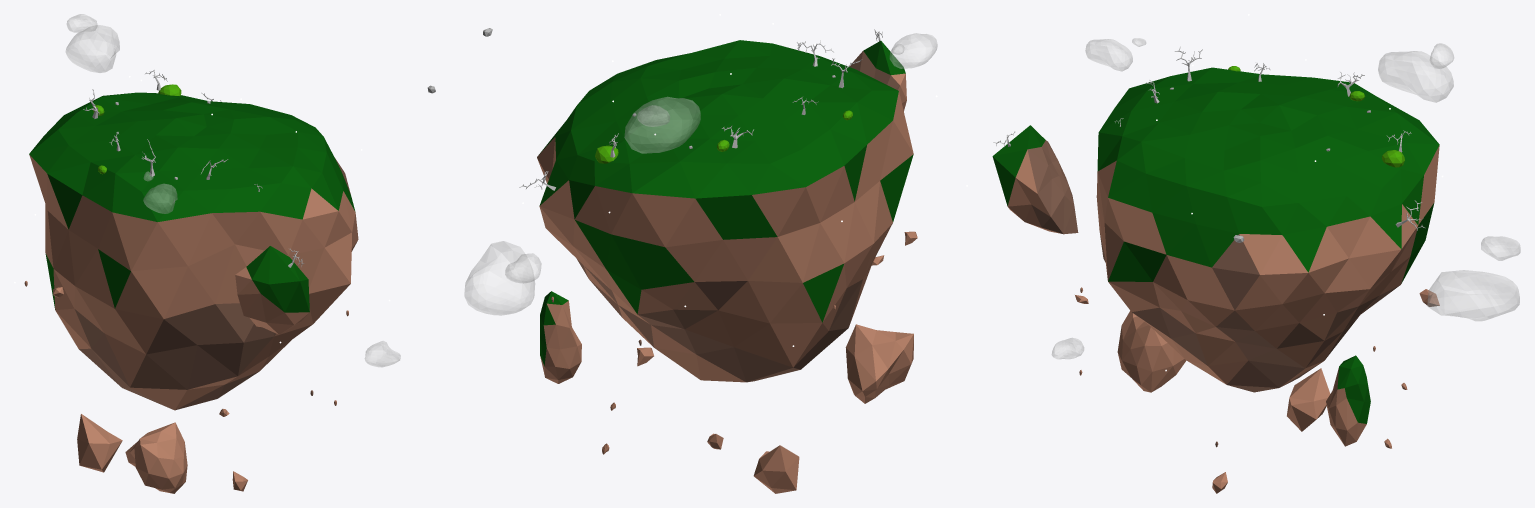
The model's file is caillou.gltf.
3 views of the same model, side by side, from view 1: azimuth 30°, elevation 25°; view 2: azimuth 150°, elevation 25°; view 3: azimuth 270°, elevation 25° (orthographic). The views are drawn at different scales.
Parts seen in each view (by area): view 1: Icosphere, Icosphere.004, Icosphere.002, Icosphere.029, Icosphere.003, Icosphere.030, Icosphere.035, Icosphere.034; view 2: Icosphere, Icosphere.032, Icosphere.002, Icosphere.029, Icosphere.001, Icosphere.004, Icosphere.003, Icosphere.030, Icosphere.033, Icosphere.034; view 3: Icosphere, Icosphere.004, Icosphere.032, Icosphere.002, Icosphere.001, Icosphere.029, Icosphere.003, Icosphere.030, Icosphere.033.
Boxes of the visible parts, left/top/right/bottom form: Icosphere: left=29, top=92, right=358, bottom=410; Icosphere.004: left=235, top=246, right=309, bottom=334; Icosphere.002: left=125, top=422, right=187, bottom=493; Icosphere.029: left=65, top=25, right=119, bottom=72; Icosphere.003: left=77, top=414, right=122, bottom=472; Icosphere.030: left=143, top=184, right=177, bottom=213; Icosphere.035: left=365, top=341, right=400, bottom=367; Icosphere.034: left=67, top=14, right=97, bottom=32; Icosphere: left=537, top=40, right=913, bottom=382; Icosphere.032: left=464, top=241, right=534, bottom=315; Icosphere.002: left=845, top=324, right=913, bottom=403; Icosphere.029: left=624, top=97, right=700, bottom=153; Icosphere.001: left=540, top=291, right=581, bottom=383; Icosphere.004: left=849, top=40, right=906, bottom=111; Icosphere.003: left=753, top=445, right=799, bottom=493; Icosphere.030: left=890, top=33, right=937, bottom=68; Icosphere.033: left=505, top=253, right=541, bottom=283; Icosphere.034: left=637, top=105, right=669, bottom=126; Icosphere: left=1096, top=67, right=1439, bottom=392; Icosphere.004: left=992, top=125, right=1078, bottom=234; Icosphere.032: left=1427, top=270, right=1519, bottom=320; Icosphere.002: left=1117, top=310, right=1186, bottom=392; Icosphere.001: left=1326, top=355, right=1370, bottom=446; Icosphere.029: left=1378, top=51, right=1453, bottom=102; Icosphere.003: left=1287, top=368, right=1330, bottom=431; Icosphere.030: left=1085, top=39, right=1132, bottom=71; Icosphere.033: left=1481, top=236, right=1520, bottom=260.
Size of the model in its own units: 523 by 527 by 623.
